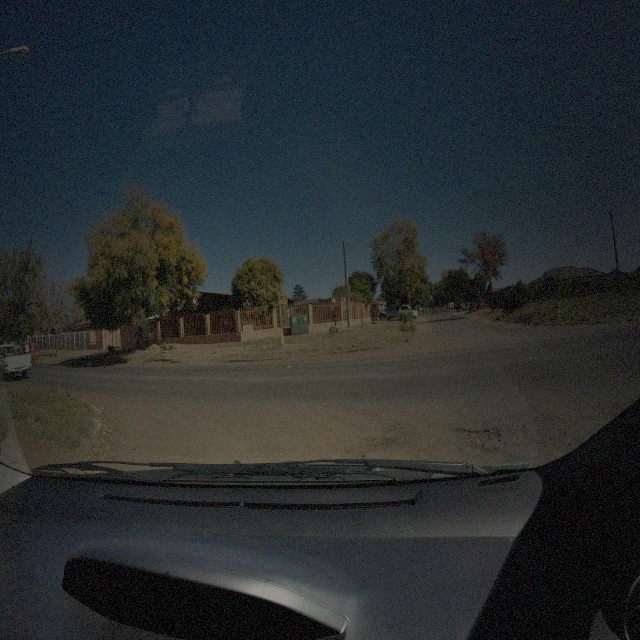pothole: (454, 424, 503, 457)
